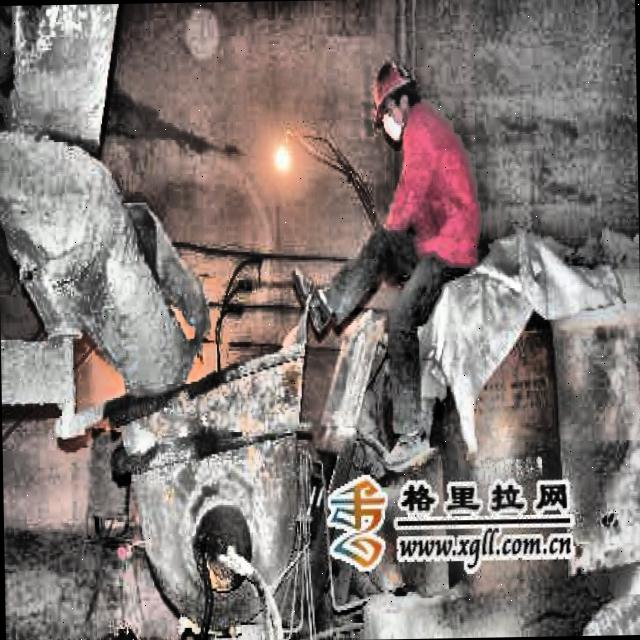helmet: (368, 56, 420, 149)
